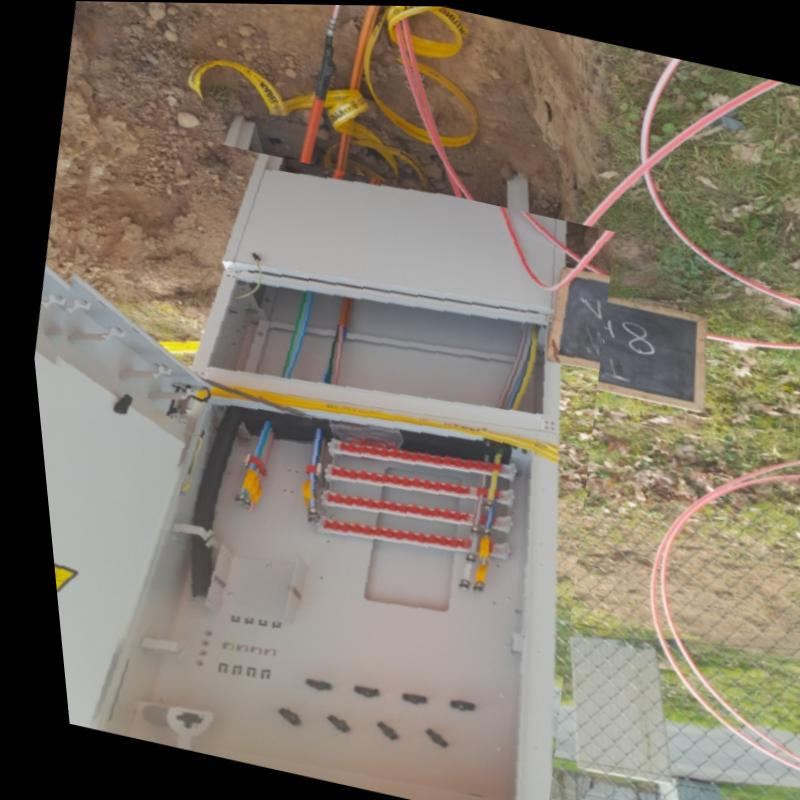NT-Gehause: (32, 167, 540, 800)
